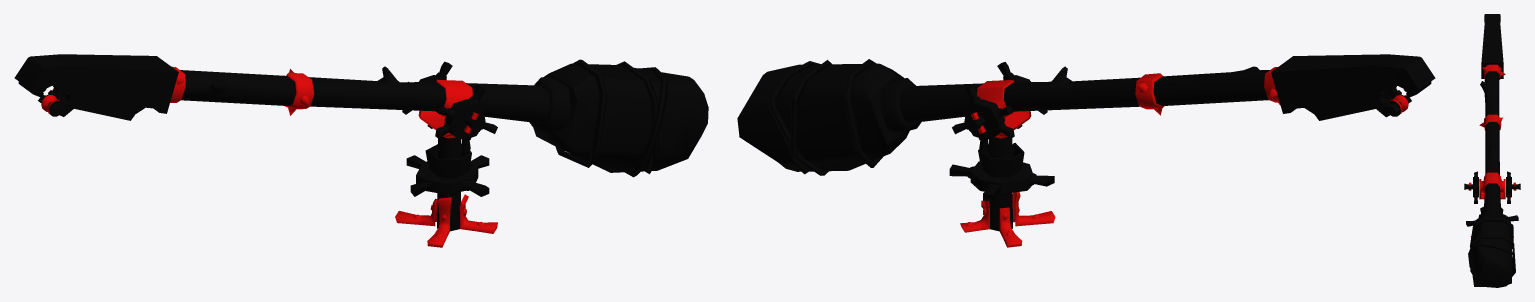
File: MSH_SwingTrap_Base.fbx
3 renders of one model, left to right at view 1: azimuth 30°, elevation 25°; view 2: azimuth 150°, elevation 25°; view 3: azimuth 270°, elevation 25°, orthographic. The views are drawn at different scales.
Parts seen in each view (by area): view 1: MSH_SwingTrap_Base_Pole, MSH_SwingTrap_Base_Foot; view 2: MSH_SwingTrap_Base_Pole, MSH_SwingTrap_Base_Foot; view 3: MSH_SwingTrap_Base_Pole.
Part boxes in pixels (x1=…): MSH_SwingTrap_Base_Pole: x1=14, y1=54, x2=708, y2=196; MSH_SwingTrap_Base_Foot: x1=395, y1=192, x2=497, y2=247; MSH_SwingTrap_Base_Pole: x1=737, y1=54, x2=1435, y2=201; MSH_SwingTrap_Base_Foot: x1=960, y1=192, x2=1055, y2=247; MSH_SwingTrap_Base_Pole: x1=1464, y1=14, x2=1520, y2=287.
Size of the model in its own units: 26.79 by 10.04 by 3.88.
